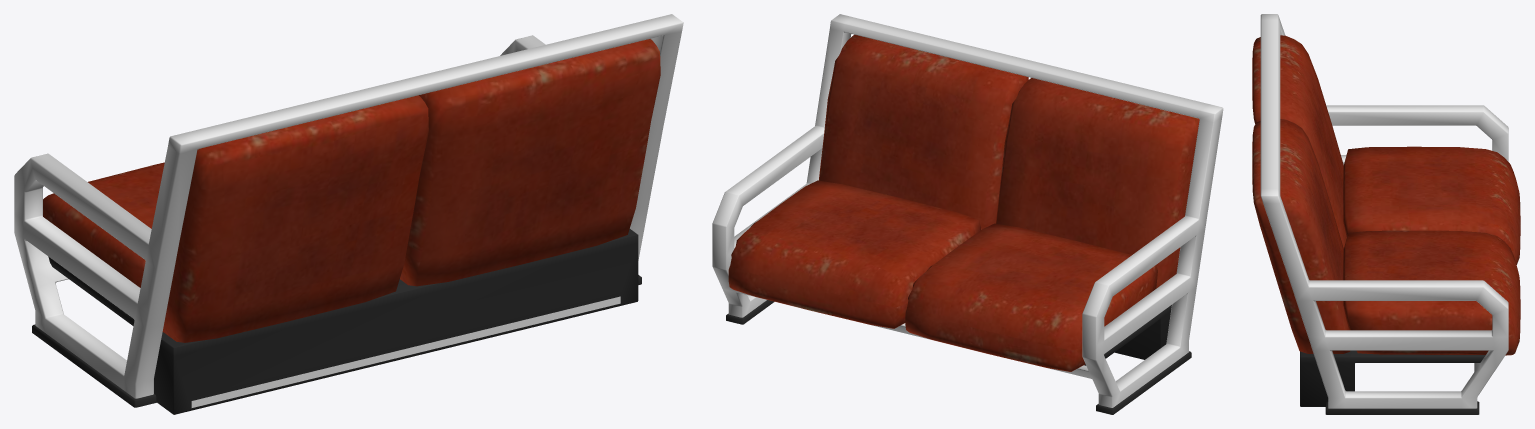
Rendered from BarArmchair.fbx.
3 views of the same model, side by side, from view 1: azimuth 30°, elevation 25°; view 2: azimuth 150°, elevation 25°; view 3: azimuth 270°, elevation 25° (orthographic). The views are drawn at different scales.
Visible parts, largest first — view 1: BarArmchair; view 2: BarArmchair; view 3: BarArmchair.
Boxes of the visible parts, x1,y1,x2,y2 form: BarArmchair: (14, 14, 683, 414); BarArmchair: (712, 14, 1223, 414); BarArmchair: (1252, 14, 1520, 414).
Bounding box in the file's own units: 160 × 88.91 × 98.98.
Materials: 4 (2 with a texture image).
